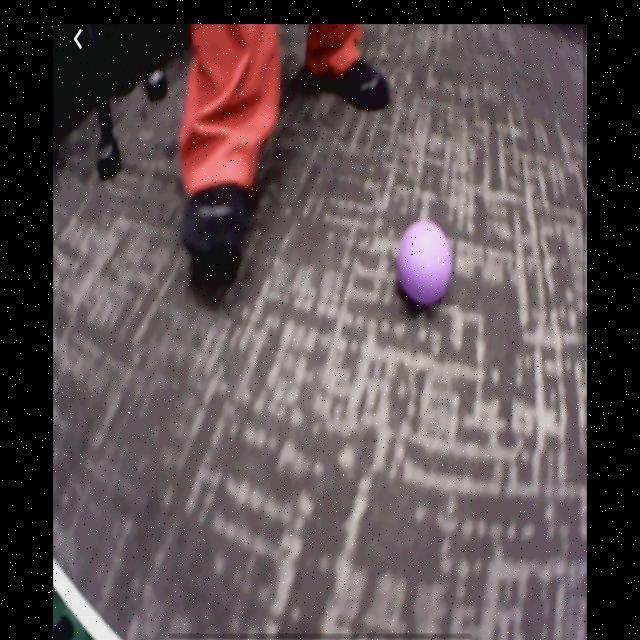ball: (396, 221, 455, 308)
